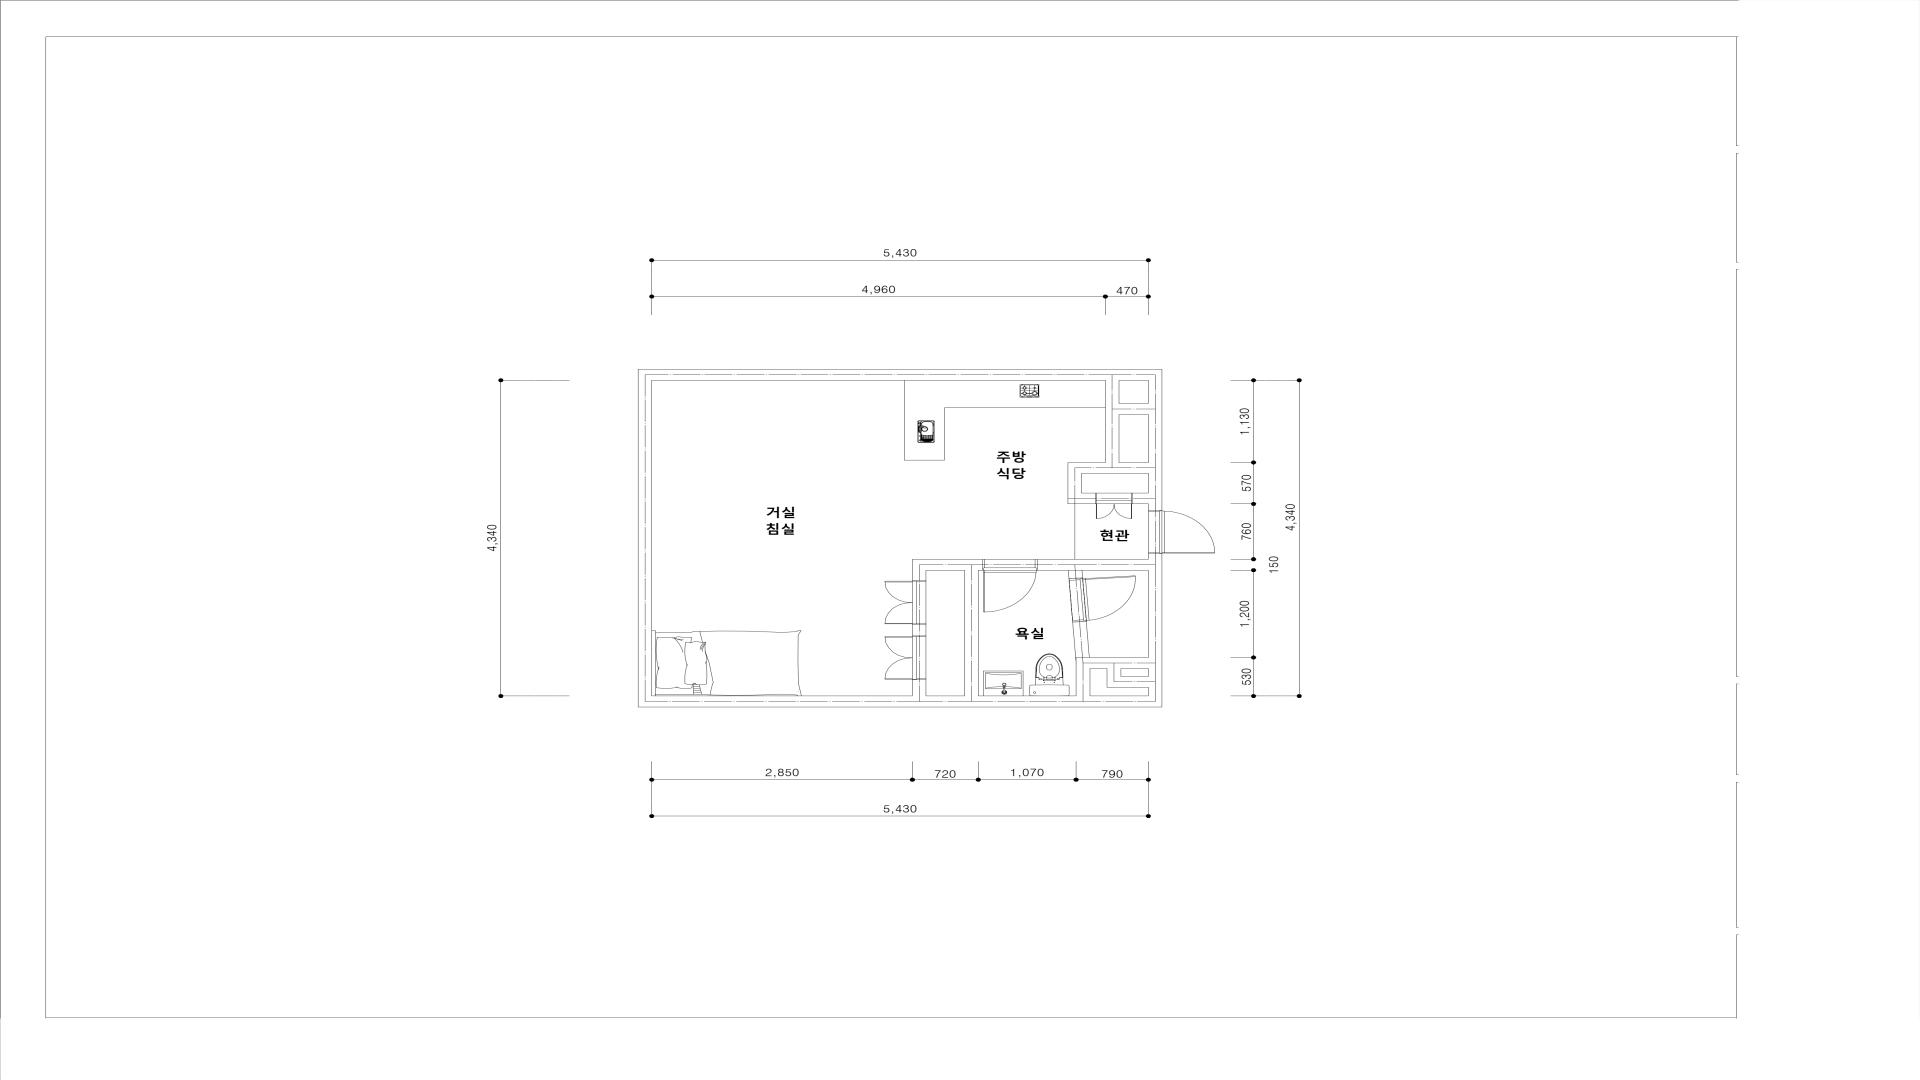door: (1068, 575, 1141, 621), (982, 559, 1038, 613), (1149, 510, 1216, 554), (884, 636, 926, 680), (885, 580, 926, 625), (1096, 493, 1131, 520)
wall: (651, 679, 1162, 707), (913, 559, 982, 696), (651, 369, 1149, 381), (638, 369, 651, 707), (1072, 621, 1149, 669), (1105, 381, 1149, 463), (1068, 463, 1149, 504), (1036, 559, 1149, 579), (1149, 554, 1162, 696), (1149, 369, 1162, 510), (1106, 669, 1149, 687), (1076, 669, 1091, 696), (1131, 493, 1149, 504), (913, 624, 926, 636)
